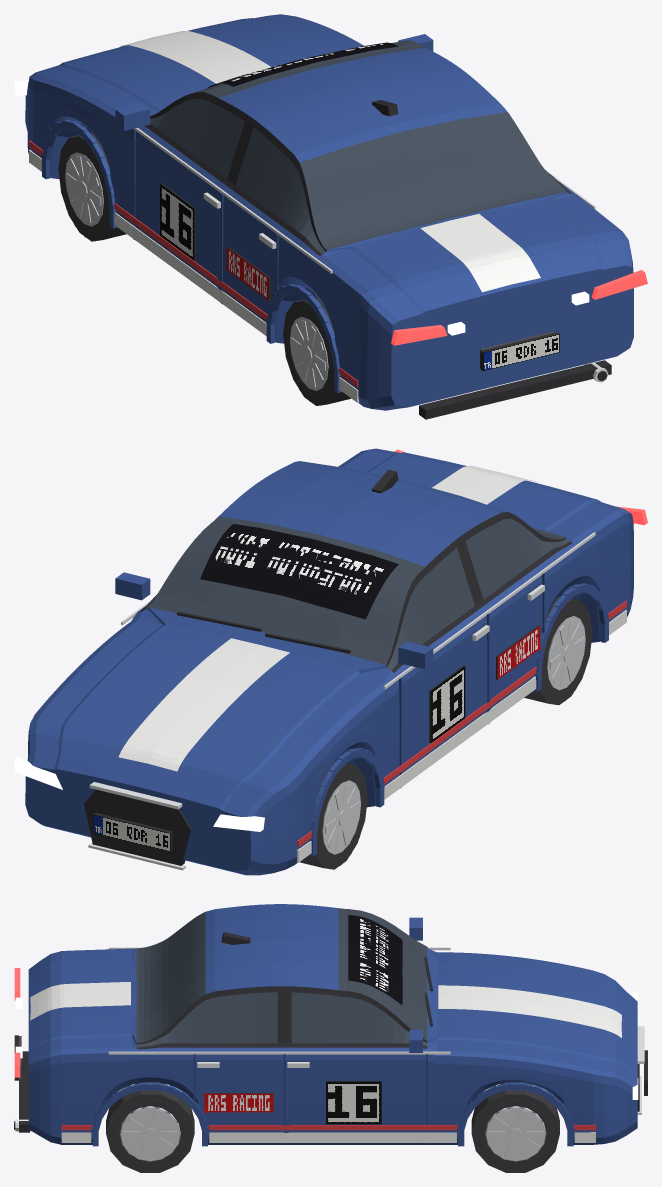
File: quadra.glb
The picture shows the model from 3 angles, top to bottom: view 1: azimuth 30°, elevation 25°; view 2: azimuth 150°, elevation 25°; view 3: azimuth 270°, elevation 25°; orthographic projection. The views are drawn at different scales.
Parts seen in each view (by area): view 1: body, livery, wheel_FL, wheel_RL; view 2: body, livery, wheel_RL, wheel_FL; view 3: body, livery, wheel_RR, wheel_FR.
Boxes of the visible parts, x1=… form: body: x1=14, y1=14, x2=647, y2=419; livery: x1=29, y1=31, x2=540, y2=402; wheel_FL: x1=58, y1=132, x2=126, y2=241; wheel_RL: x1=283, y1=297, x2=350, y2=405; body: x1=14, y1=448, x2=647, y2=875; livery: x1=118, y1=465, x2=626, y2=862; wheel_RL: x1=524, y1=596, x2=592, y2=705; wheel_FL: x1=299, y1=760, x2=367, y2=869; body: x1=14, y1=904, x2=647, y2=1146; livery: x1=30, y1=914, x2=621, y2=1142; wheel_RR: x1=106, y1=1082, x2=194, y2=1172; wheel_FR: x1=471, y1=1082, x2=559, y2=1172.
Size of the model in its own units: 2.1 by 1.51 by 4.58.
17 materials, 4 textured.
